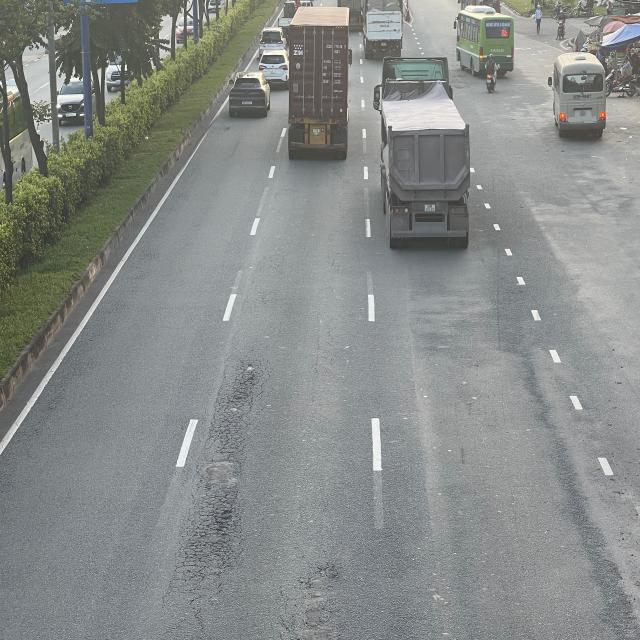car: (229, 74, 272, 118), (259, 46, 291, 88)
coach: (549, 52, 608, 135), (452, 6, 515, 77)
container: (376, 60, 473, 255), (286, 6, 350, 160)
truck: (362, 4, 402, 58)
